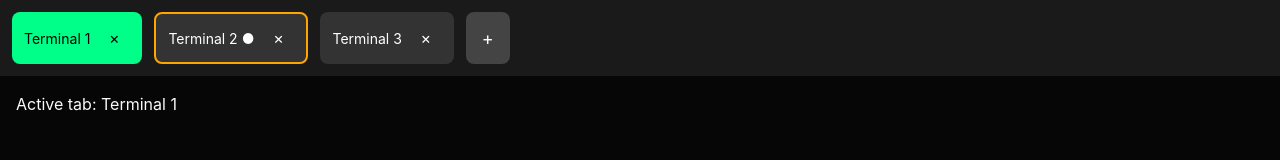
Test: Mobile Tab UI › Mobile Tab Interface Integration › should switch tabs when tab is clicked
Click the element with test id "tab-tab2": (231, 38) [154, 12, 308, 64]
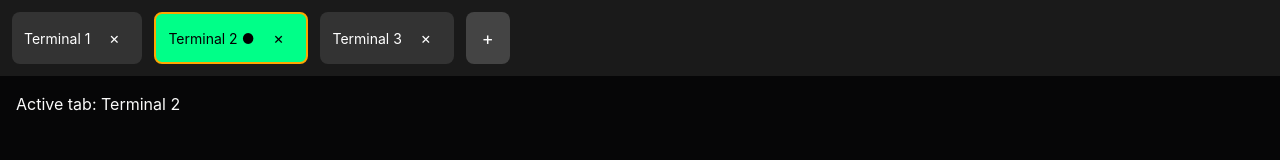
Check: the text "Active tab: Terminal 2" is shown, box [16, 94, 180, 114]
